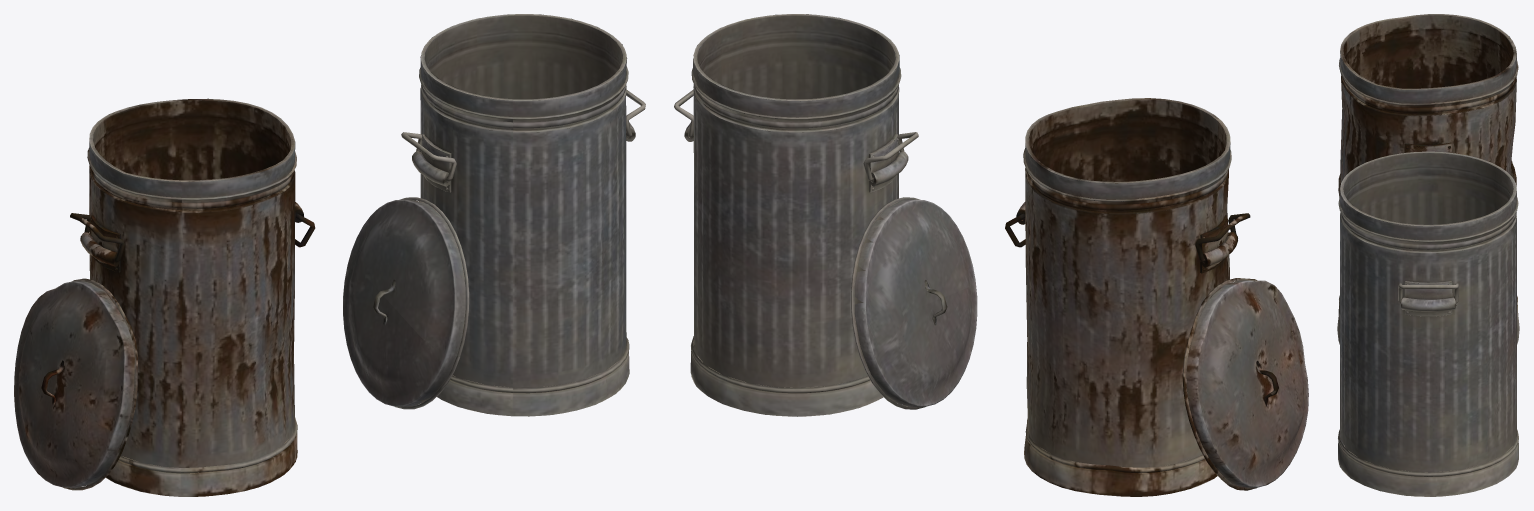
The model's file is metal_trash_can.glb.
3 views of the same model, side by side, from view 1: azimuth 30°, elevation 25°; view 2: azimuth 150°, elevation 25°; view 3: azimuth 270°, elevation 25° (orthographic). The views are drawn at different scales.
Parts seen in each view (by area): view 1: metal_trash_can_handle_left; view 2: metal_trash_can_handle_left; view 3: metal_trash_can_handle_left.
Part boxes in pixels (x1=…): metal_trash_can_handle_left: x1=14, y1=14, x2=645, y2=496; metal_trash_can_handle_left: x1=674, y1=14, x2=1308, y2=496; metal_trash_can_handle_left: x1=1337, y1=14, x2=1519, y2=496.
Bounding box in the file's own units: 1.78 × 0.9062 × 0.5554.
3 materials, 3 textured.
